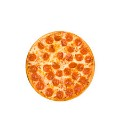pepperonipizza: (25, 30, 95, 101)
